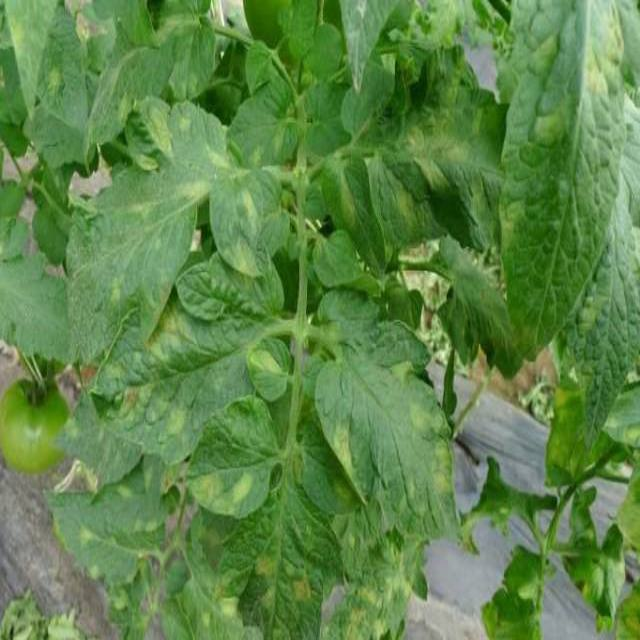Leaf_Mold: (335, 544, 415, 640), (217, 547, 311, 628), (405, 403, 456, 501), (402, 121, 469, 187), (135, 289, 196, 358), (118, 382, 187, 439), (196, 466, 252, 519), (326, 417, 356, 475), (225, 238, 262, 281), (177, 173, 218, 210), (247, 344, 284, 382), (74, 521, 98, 551), (552, 386, 568, 414)
